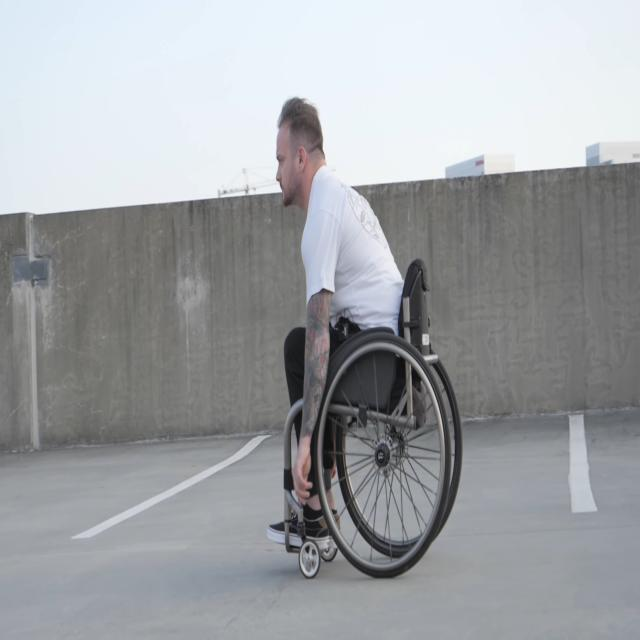wheelchairs: (282, 255, 463, 581)
